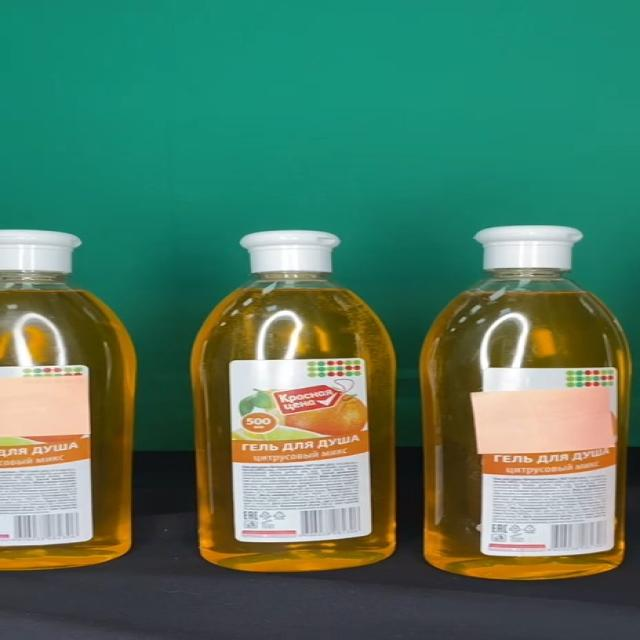Bottle: (421, 226, 631, 579), (192, 229, 398, 572)
Cap: (476, 227, 584, 270), (239, 230, 343, 272)
